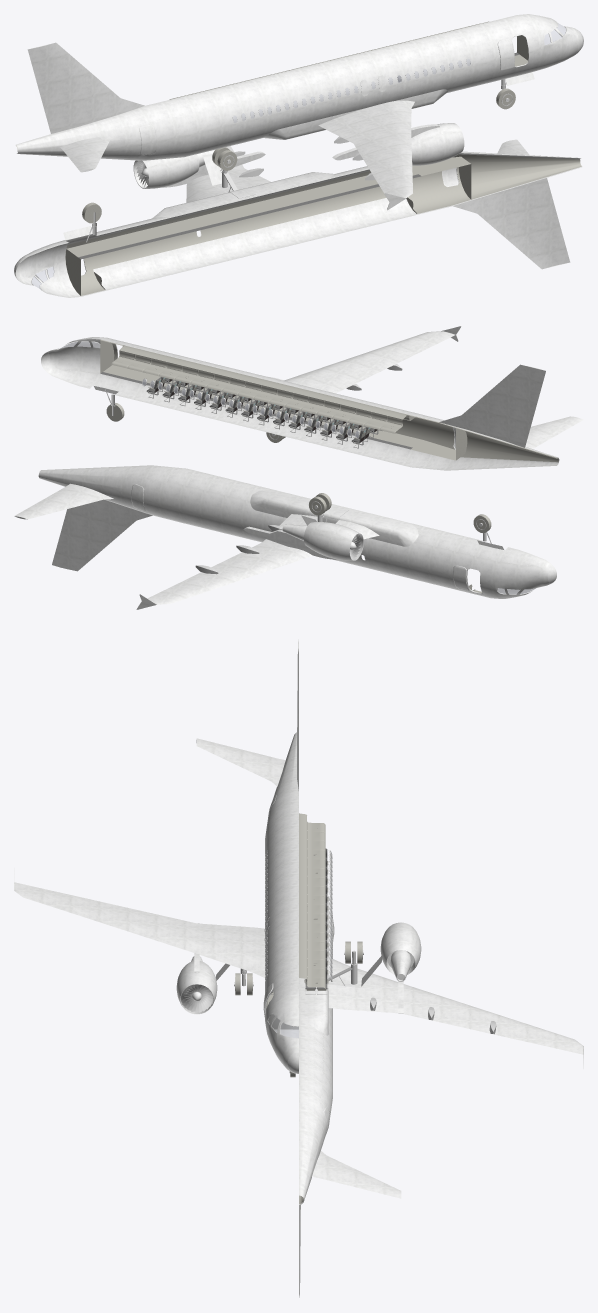
Rendered from Airplane.FBX.
3 views of the same model, one above another, from view 1: azimuth 30°, elevation 25°; view 2: azimuth 150°, elevation 25°; view 3: azimuth 270°, elevation 25° (orthographic). The views are drawn at different scales.
Visible parts, largest first — view 1: AIRBUS-A320-200, AIRBUS-A320-200_links; view 2: AIRBUS-A320-200_links, AIRBUS-A320-200, overhead_compartment016, overhead_compartment025, overhead_compartment, overhead_compartment015, overhead_compartment020, overhead_compartment029, overhead_compartment030, overhead_compartment024, overhead_compartment028, overhead_compartment021 (+7 smaller); view 3: AIRBUS-A320-200, AIRBUS-A320-200_links.
Boxes of the visible parts, x1,y1,x2,y2 form: AIRBUS-A320-200: (16, 14, 583, 210); AIRBUS-A320-200_links: (14, 139, 581, 297); AIRBUS-A320-200_links: (14, 465, 556, 609); AIRBUS-A320-200: (41, 326, 583, 470); overhead_compartment016: (379, 411, 409, 433); overhead_compartment025: (222, 372, 250, 395); overhead_compartment: (348, 403, 376, 425); overhead_compartment015: (364, 407, 392, 429); overhead_compartment020: (300, 392, 329, 414); overhead_compartment029: (159, 357, 187, 379); overhead_compartment030: (143, 353, 171, 375); overhead_compartment024: (237, 376, 266, 398); overhead_compartment028: (174, 361, 203, 383); overhead_compartment021: (285, 388, 313, 410); AIRBUS-A320-200: (14, 639, 298, 1077); AIRBUS-A320-200_links: (299, 896, 583, 1297).
Bounding box in the file's own units: 4293 × 2501 × 3456.
